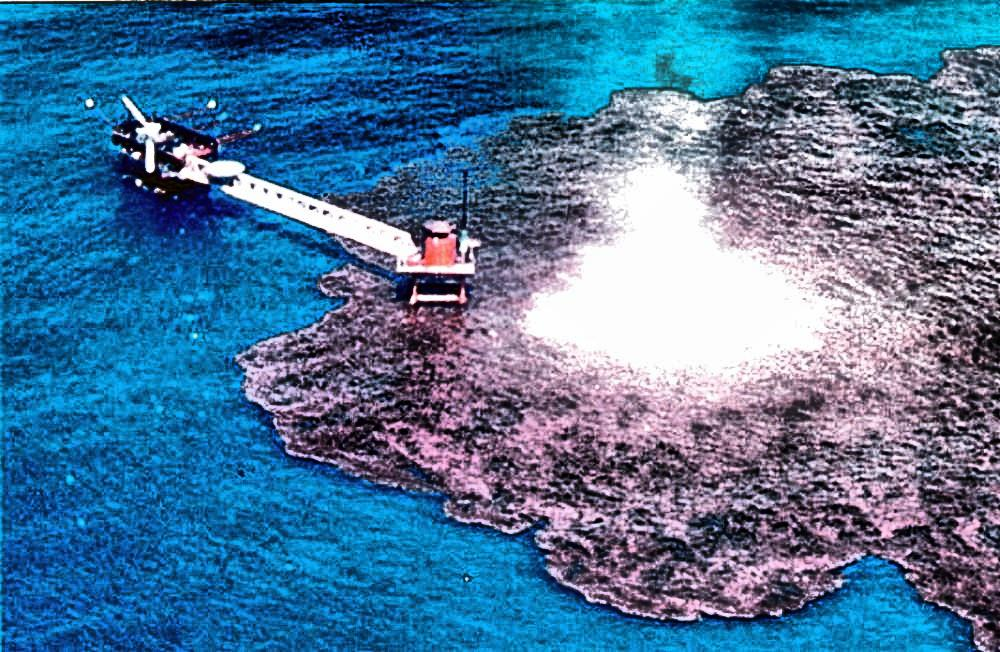truecolor: (240, 47, 1000, 650)
